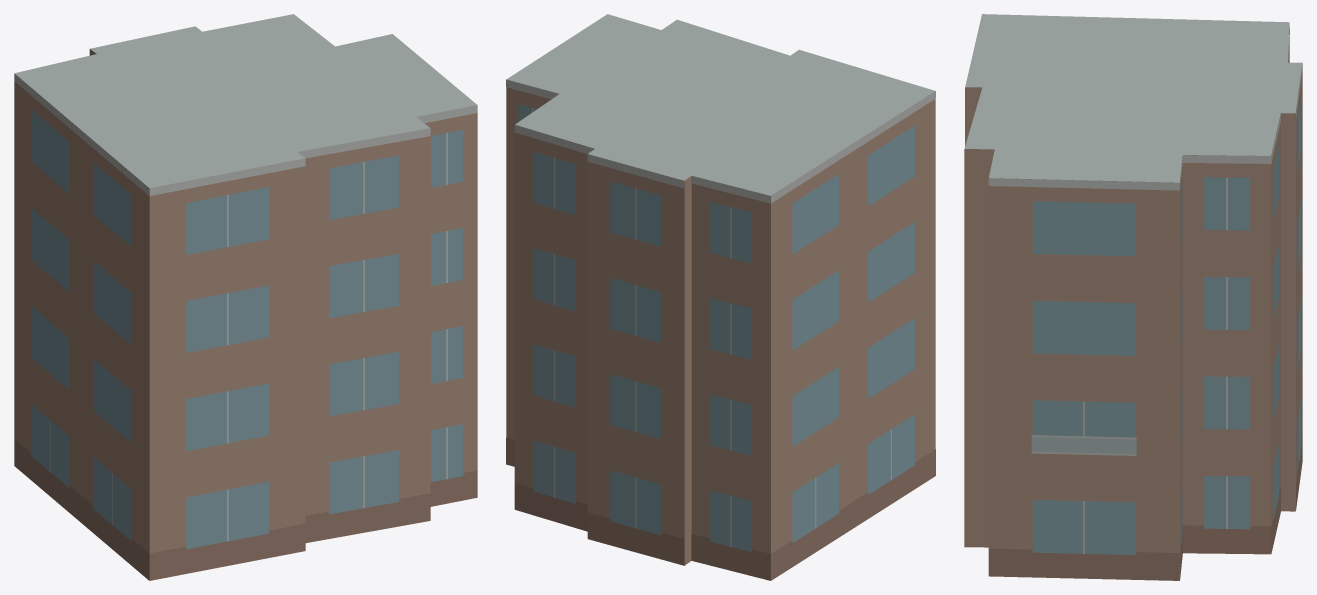
File: survey-upis-32494370.glb
3 views of the same model, side by side, from view 1: azimuth 30°, elevation 25°; view 2: azimuth 150°, elevation 25°; view 3: azimuth 270°, elevation 25° (orthographic). The views are drawn at different scales.
Visible parts, largest first — view 1: survey-upis-32494370.tmp; view 2: survey-upis-32494370.tmp; view 3: survey-upis-32494370.tmp.
Boxes of the visible parts, left/top/right/bottom form: survey-upis-32494370.tmp: left=14, top=14, right=477, bottom=580; survey-upis-32494370.tmp: left=506, top=14, right=935, bottom=580; survey-upis-32494370.tmp: left=964, top=14, right=1302, bottom=580.
Size of the model in its own units: 11.09 by 12.2 by 9.4.
